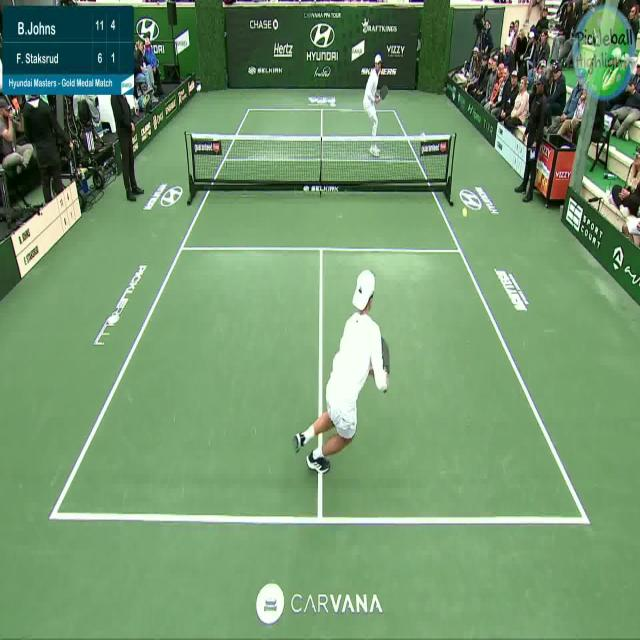ball: (462, 207, 468, 218)
